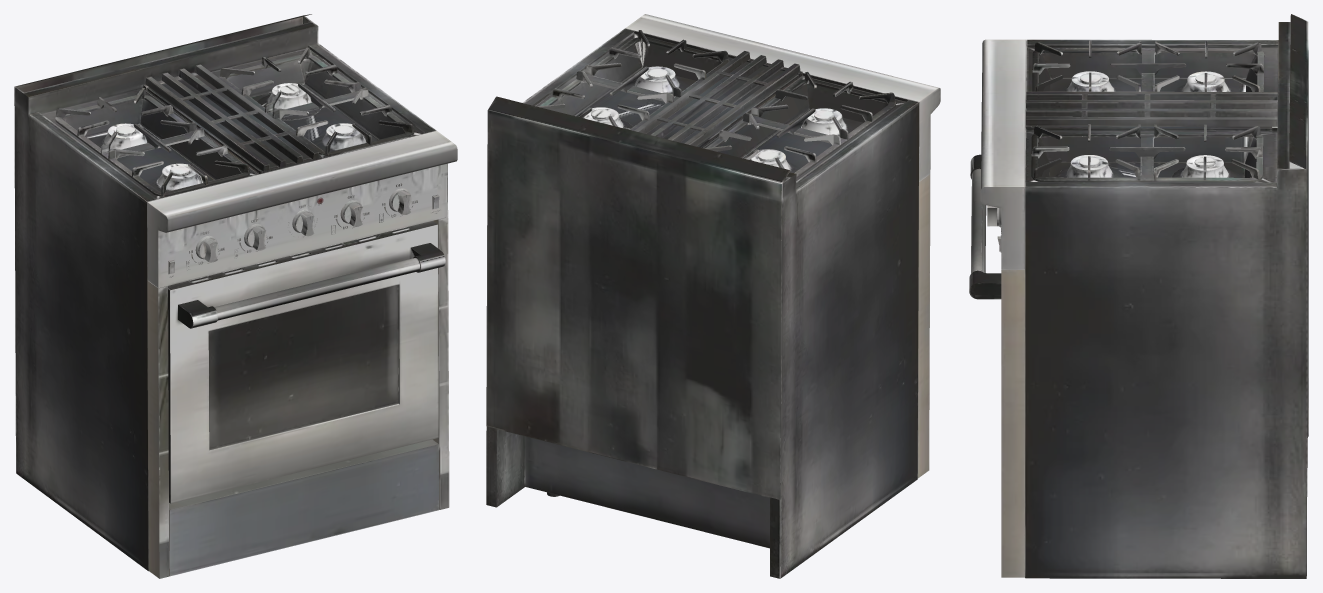
3 renders of one model, left to right at view 1: azimuth 30°, elevation 25°; view 2: azimuth 150°, elevation 25°; view 3: azimuth 270°, elevation 25°, orthographic. The views are drawn at different scales.
Visible parts, largest first — view 1: geometry_0, world.001; view 2: geometry_0; view 3: geometry_0, world.001.
Part boxes in pixels (box(x1,y1,x2,y2)): geometry_0: box(14, 14, 457, 578); world.001: box(168, 221, 445, 503); geometry_0: box(486, 14, 940, 578); geometry_0: box(980, 14, 1308, 578); world.001: box(969, 154, 1001, 299).
Bounding box in the file's own units: 0.754 × 1 × 0.7199.
Materials: 1 (1 with a texture image).
